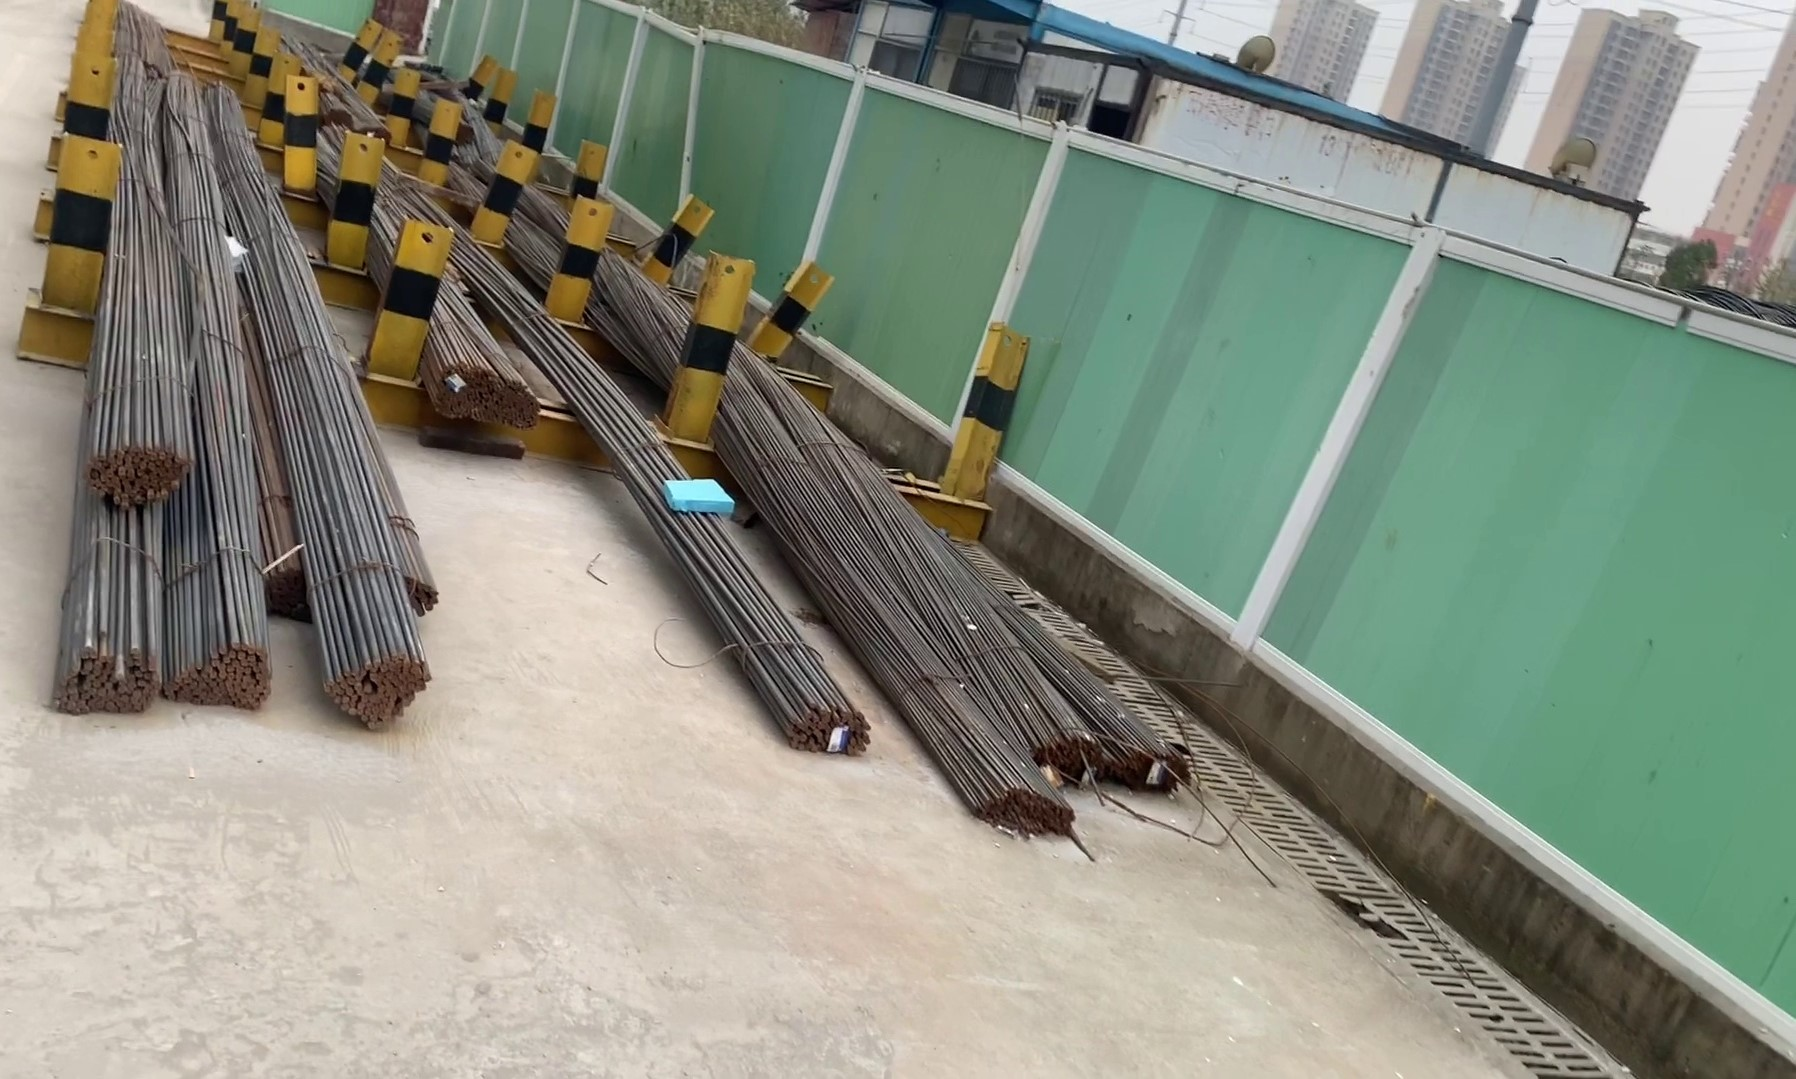rebar: (1043, 718, 1189, 792), (49, 641, 160, 724), (434, 358, 543, 429), (327, 653, 428, 729), (89, 443, 194, 512), (164, 641, 273, 704), (969, 779, 1074, 843), (785, 692, 877, 758), (255, 561, 322, 624), (396, 567, 445, 615)
